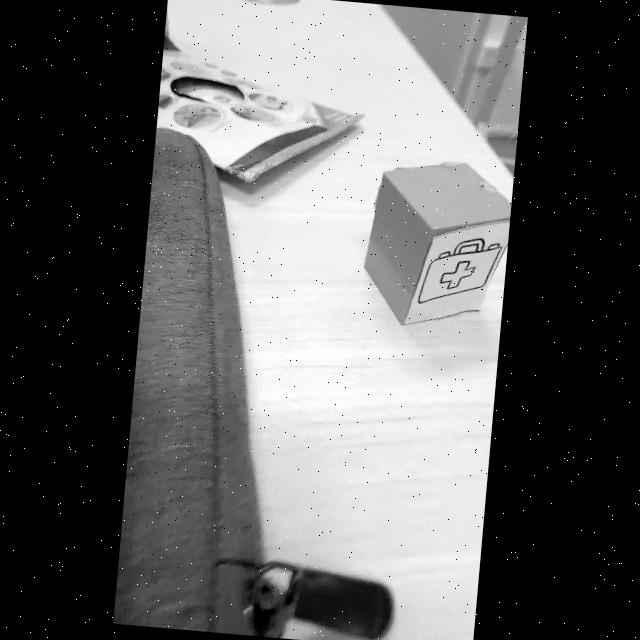Medkit: (417, 238, 502, 303)
